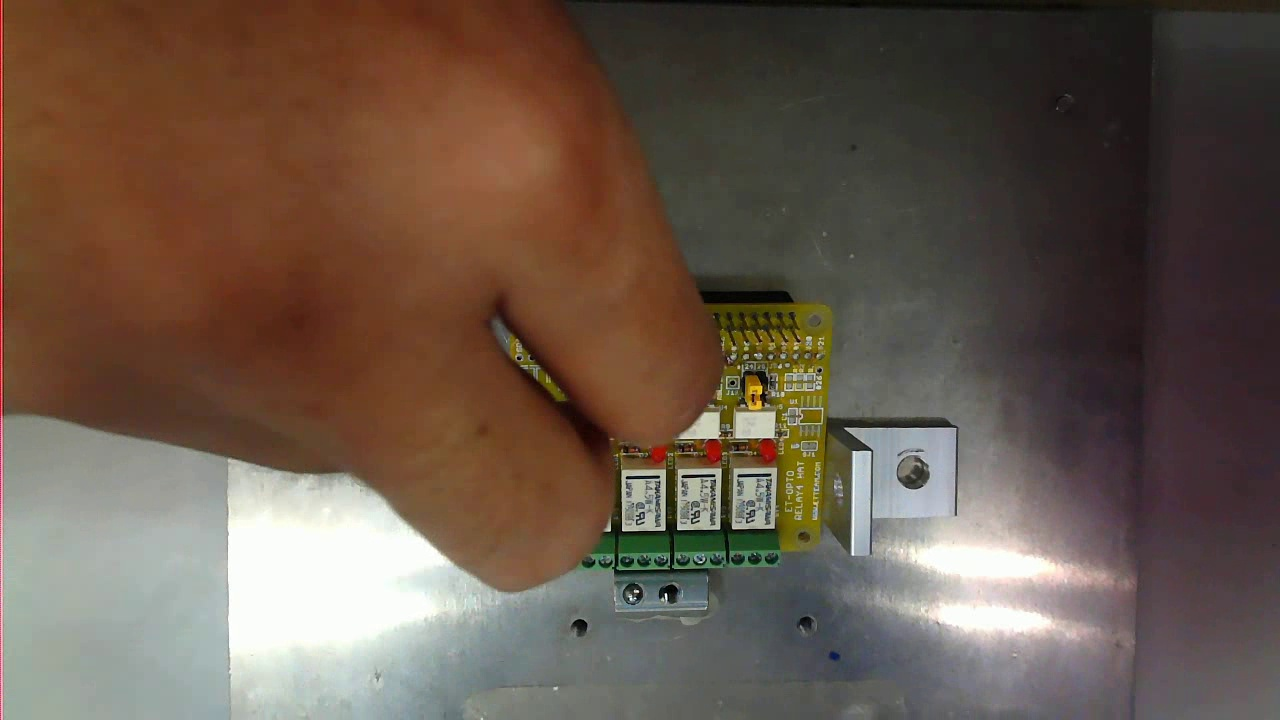can: (617, 296, 831, 570), (690, 297, 830, 569)
